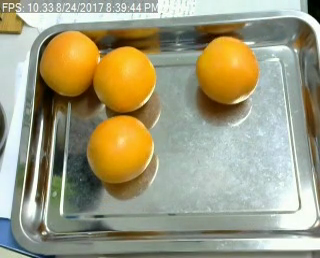Orange: (86, 114, 155, 183), (195, 36, 260, 104), (94, 47, 157, 112), (39, 28, 99, 95)
